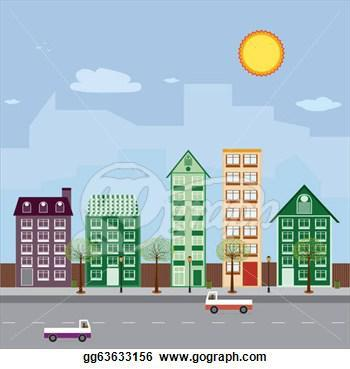car: (202, 285, 257, 317), (44, 315, 92, 347)
